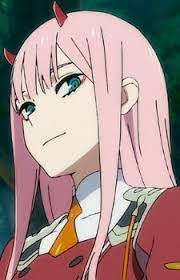zeroTwo: (1, 1, 180, 179)
